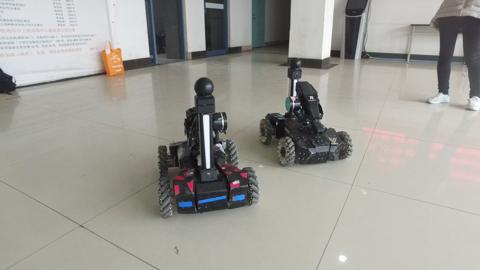chariot: (148, 76, 263, 222), (262, 56, 358, 182)
